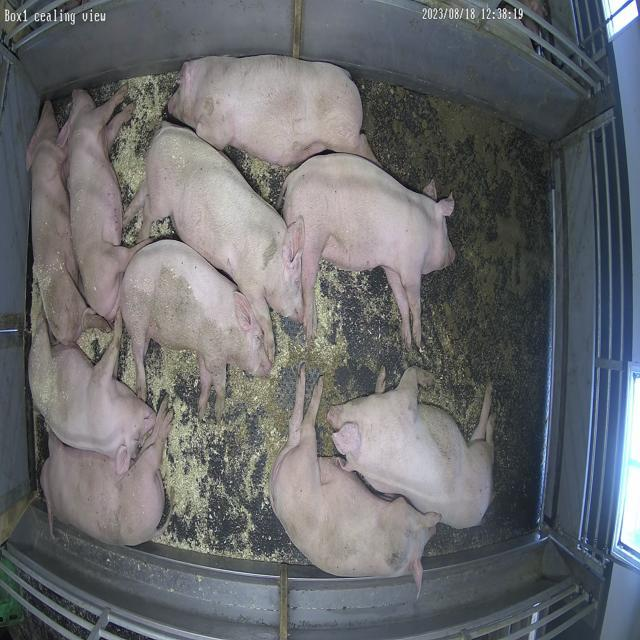Dirt: (348, 80, 553, 556), (261, 342, 369, 457)
Pig: (125, 122, 303, 360), (270, 367, 441, 594), (283, 153, 456, 350), (328, 368, 495, 530), (120, 240, 271, 418), (168, 54, 378, 166), (59, 85, 142, 322), (28, 319, 155, 472), (40, 403, 172, 546), (26, 101, 99, 344)
